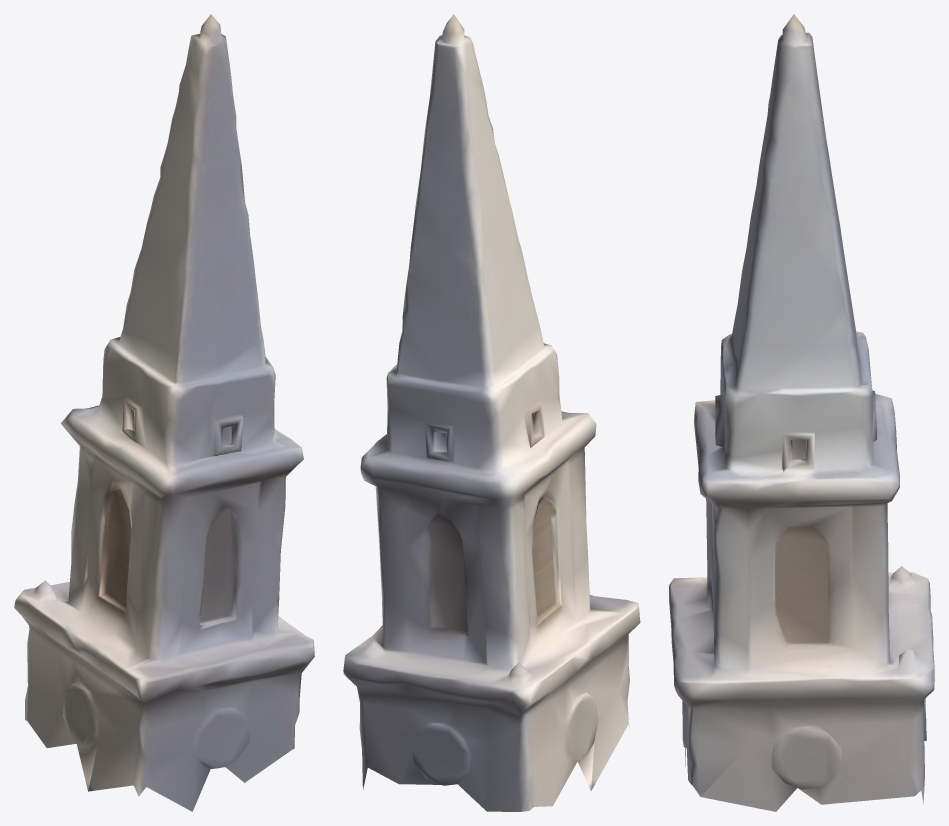
The model's file is steeple.glb.
3 views of the same model, side by side, from view 1: azimuth 30°, elevation 25°; view 2: azimuth 150°, elevation 25°; view 3: azimuth 270°, elevation 25° (orthographic). The views are drawn at different scales.
Parts seen in each view (by area): view 1: tripo_node_01a21ca2-aa8d-75ba-930c-8c2e813e7863; view 2: tripo_node_01a21ca2-aa8d-75ba-930c-8c2e813e7863; view 3: tripo_node_01a21ca2-aa8d-75ba-930c-8c2e813e7863.
Part boxes in pixels (x1,y1,x2,y2): tripo_node_01a21ca2-aa8d-75ba-930c-8c2e813e7863: [14, 14, 314, 811]; tripo_node_01a21ca2-aa8d-75ba-930c-8c2e813e7863: [343, 14, 640, 811]; tripo_node_01a21ca2-aa8d-75ba-930c-8c2e813e7863: [669, 14, 934, 811].
Size of the model in its own units: 3.52 by 13.13 by 4.
1 material, 1 textured.
